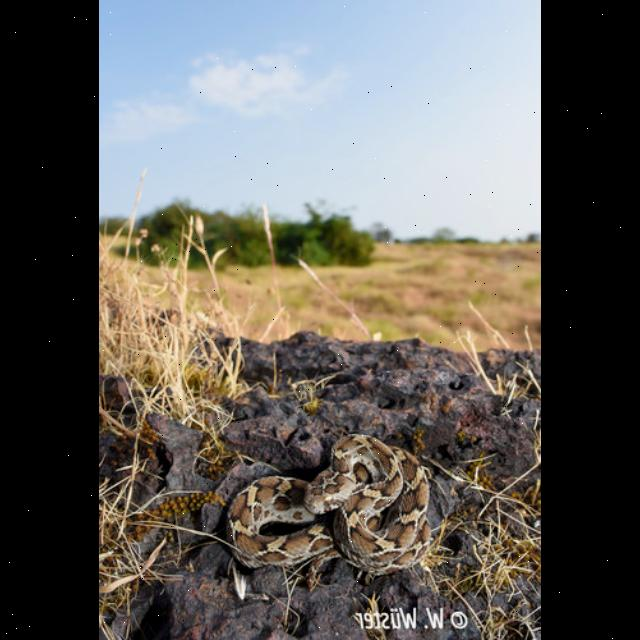snake: (223, 438, 435, 574)
